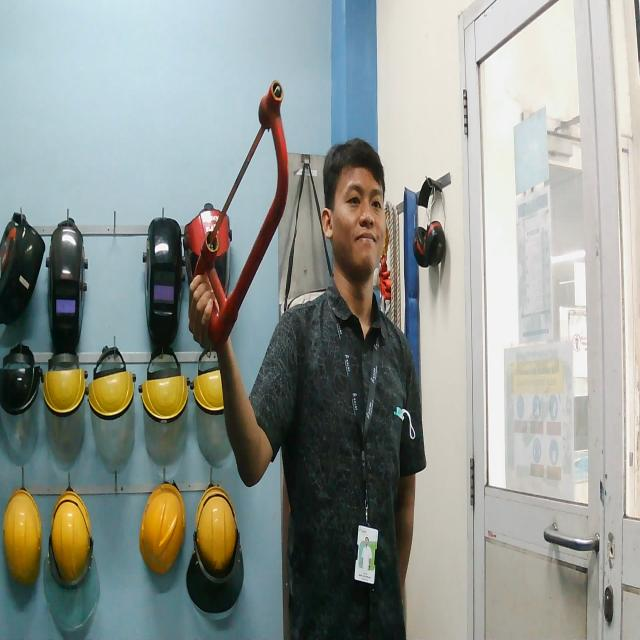gergaji_besi: (175, 60, 321, 371)
